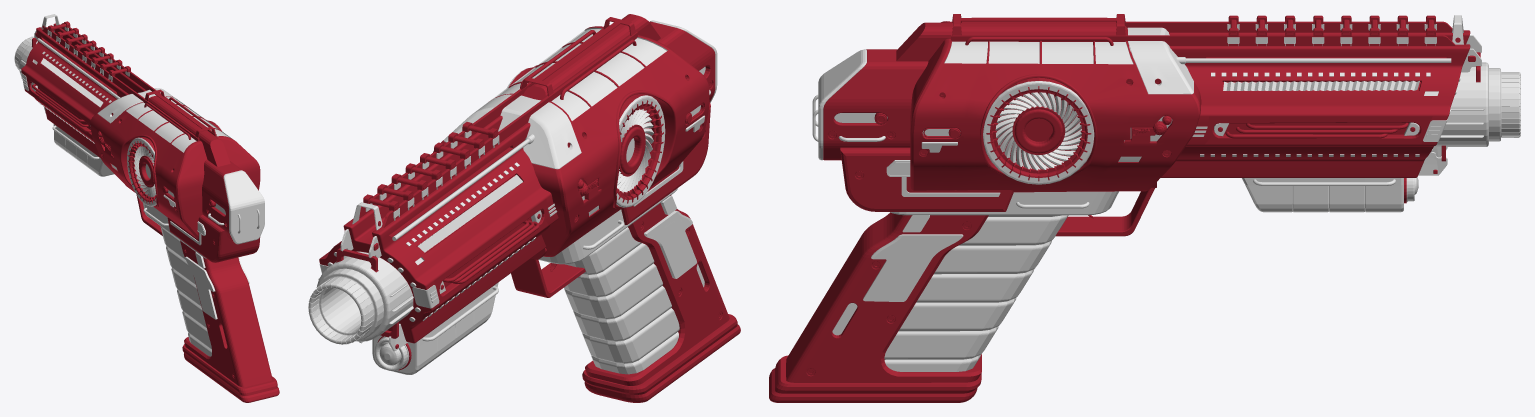
The model's file is RayGunMKVIII.fbx.
3 renders of one model, left to right at view 1: azimuth 30°, elevation 25°; view 2: azimuth 150°, elevation 25°; view 3: azimuth 270°, elevation 25°, orthographic. The views are drawn at different scales.
Visible parts, largest first — view 1: Gun; view 2: Gun; view 3: Gun.
Part boxes in pixels (x1=…): Gun: x1=14, y1=14, x2=279, y2=402; Gun: x1=308, y1=14, x2=740, y2=402; Gun: x1=769, y1=14, x2=1520, y2=402.
Size of the model in its own units: 288 by 732 by 1346.
